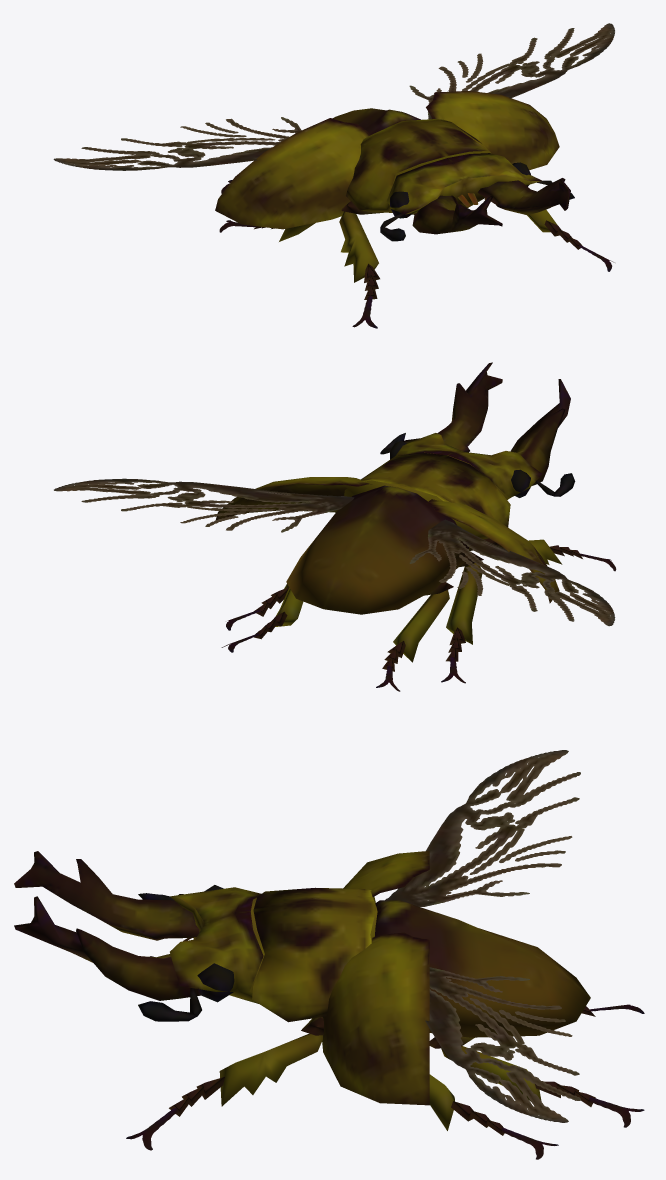
Rendered from golden-stag.glb.
3 views of the same model, one above another, from view 1: azimuth 30°, elevation 25°; view 2: azimuth 150°, elevation 25°; view 3: azimuth 270°, elevation 25° (orthographic). The views are drawn at different scales.
Size of the model in its own units: 7.35 by 1.66 by 4.65.
2 materials, 2 textured.
